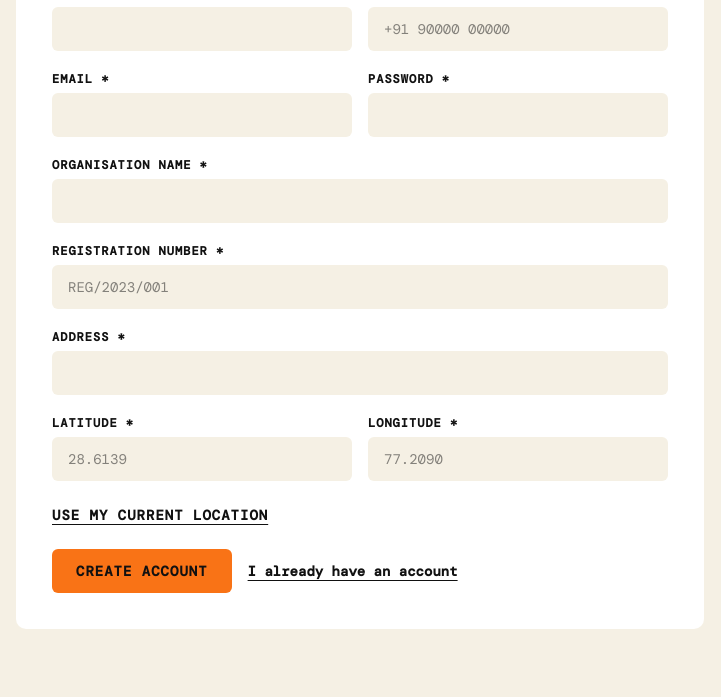
it: RegisterPage › explains what is missing and sends nothing
(page scrolled)
Step 1. Click the button "Create account" → (142, 570), box 52,548 -> 232,592
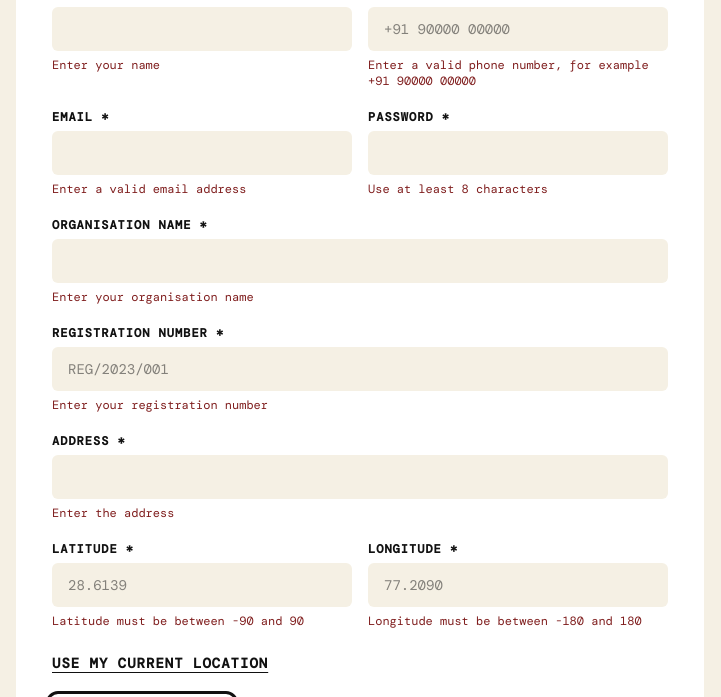
Result: the text "Enter your name" is shown at 52,56 -> 160,72
Result: the text "Use at least 8 characters" is shown at 368,180 -> 548,196
Result: the text "Enter your registration number" is shown at 52,396 -> 268,412
